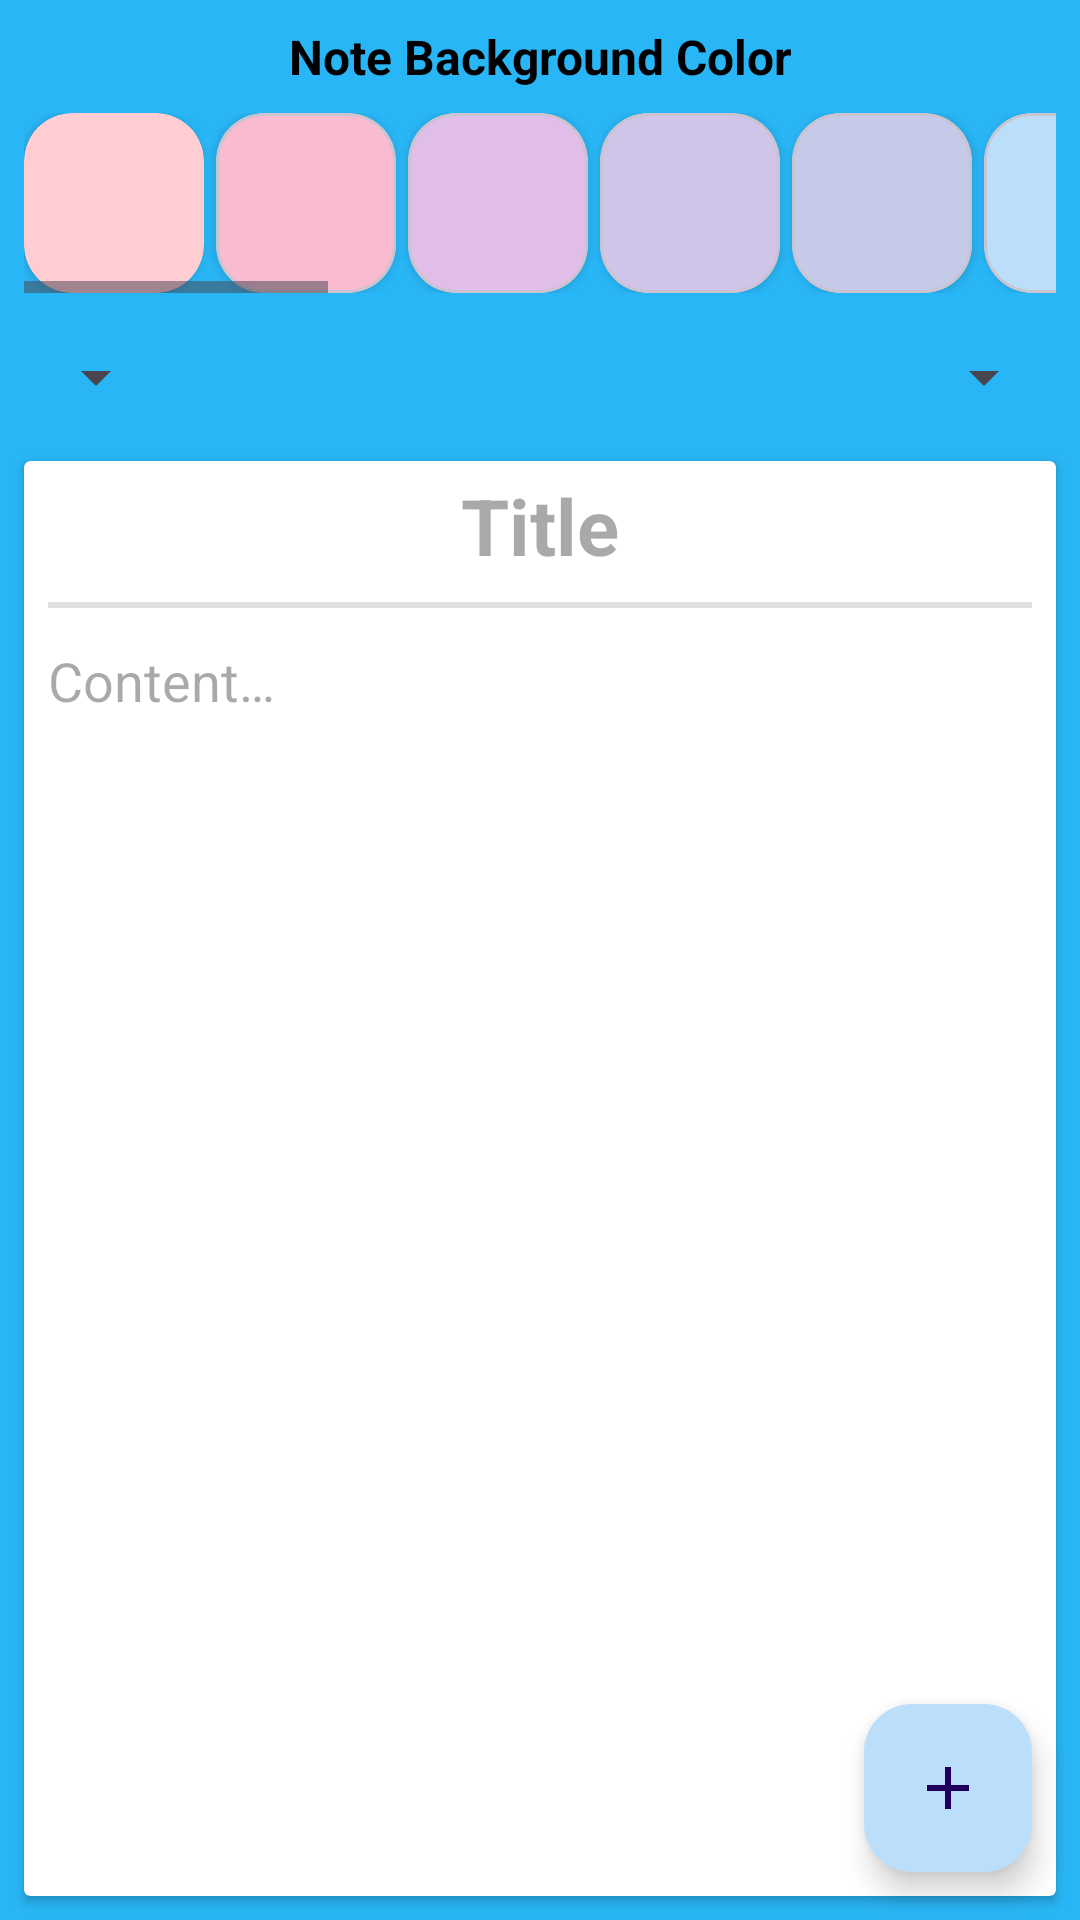

Named icons in this screenshot (1080w x 1920h) and their centers, (x,y):
Add Note Button: (948,1788)
